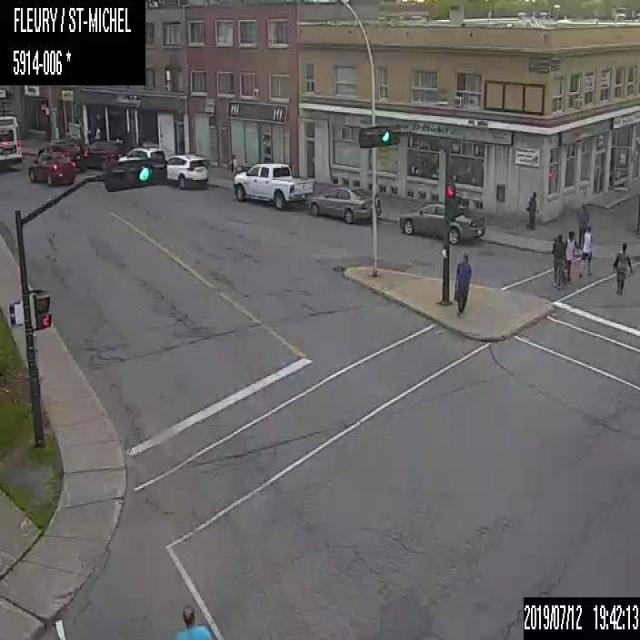bus: (0, 113, 23, 171)
pedestrian: (173, 604, 211, 639), (453, 252, 472, 313), (612, 241, 632, 295), (563, 226, 579, 286), (578, 222, 594, 279), (551, 230, 566, 288), (574, 201, 591, 250), (526, 190, 536, 230), (229, 152, 238, 180)
vehicle: (232, 157, 314, 211), (396, 200, 490, 245), (308, 184, 382, 222), (26, 143, 76, 187), (164, 149, 210, 191), (70, 135, 121, 172), (118, 142, 165, 159)
